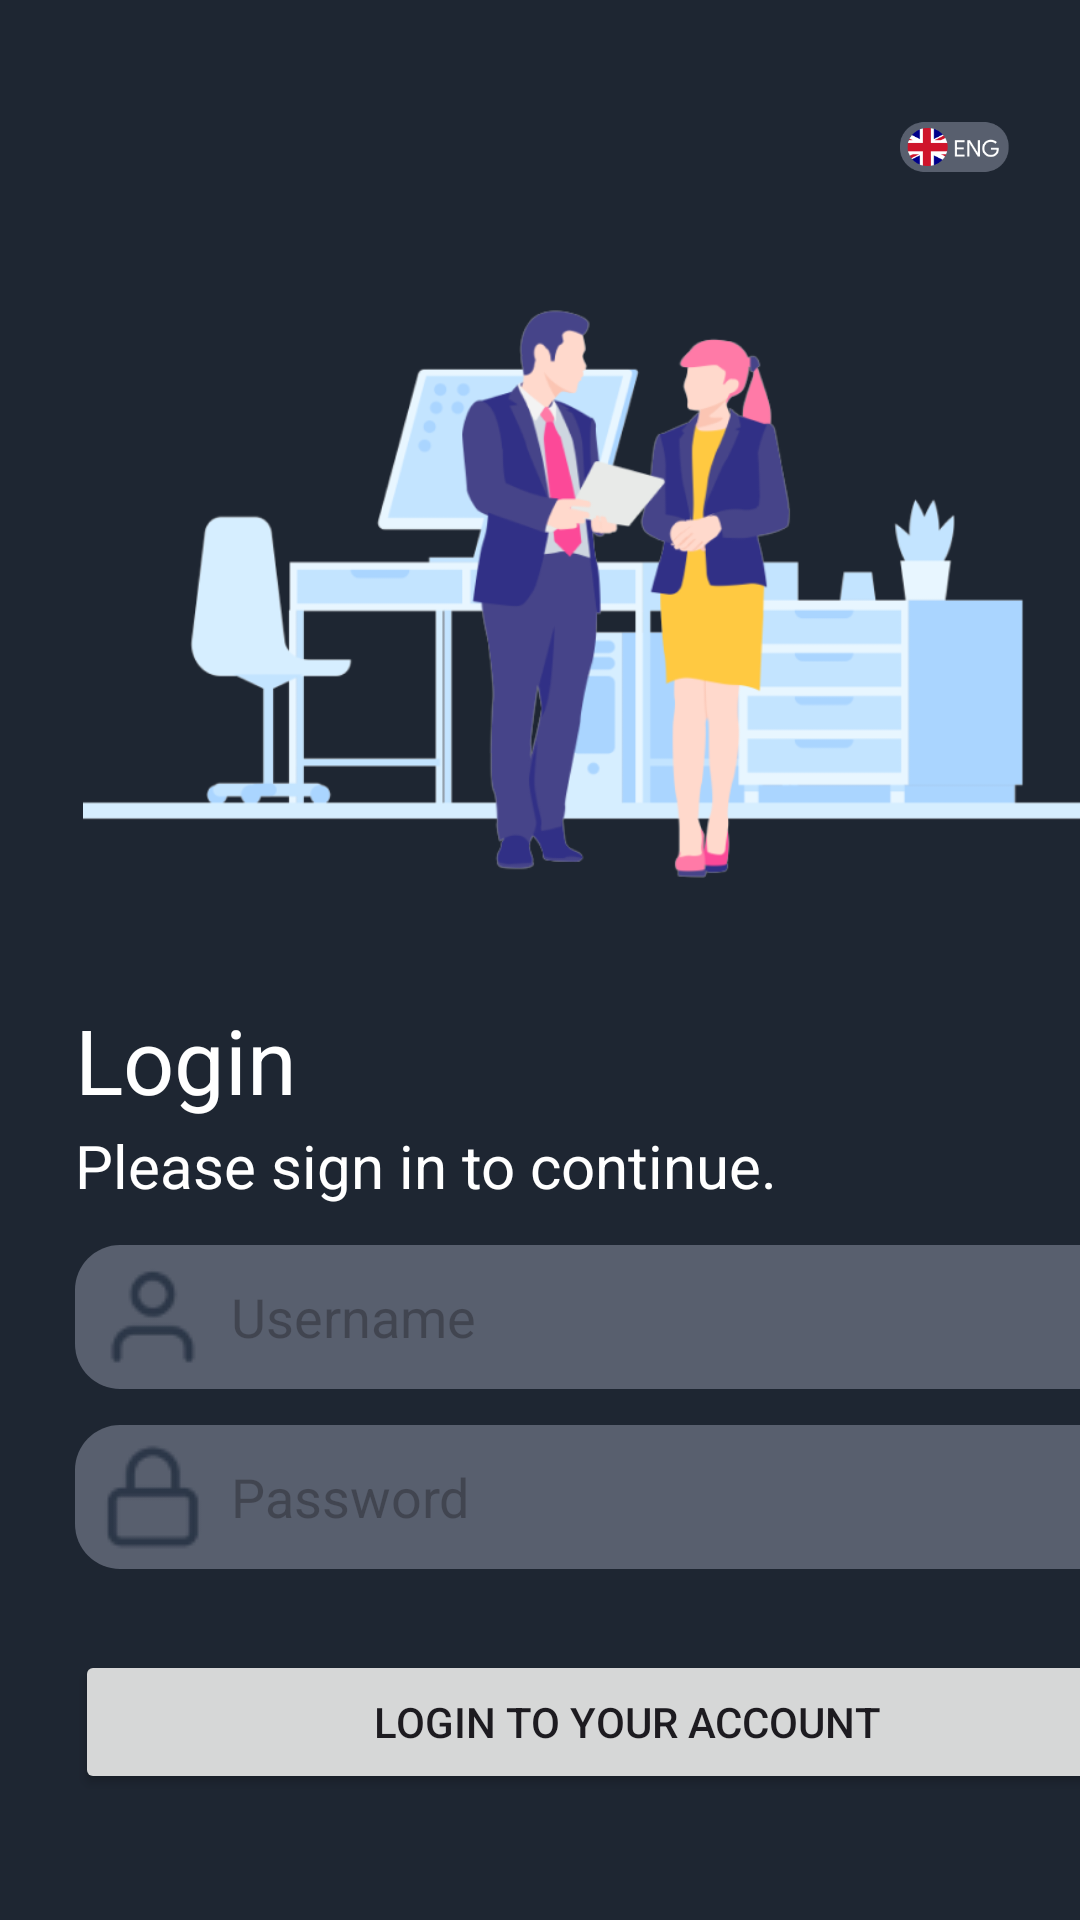

Where icons sit on this 1080×1920 app screen, as (x1,y1,x2,y2):
lang: (900,122,1009,172)
